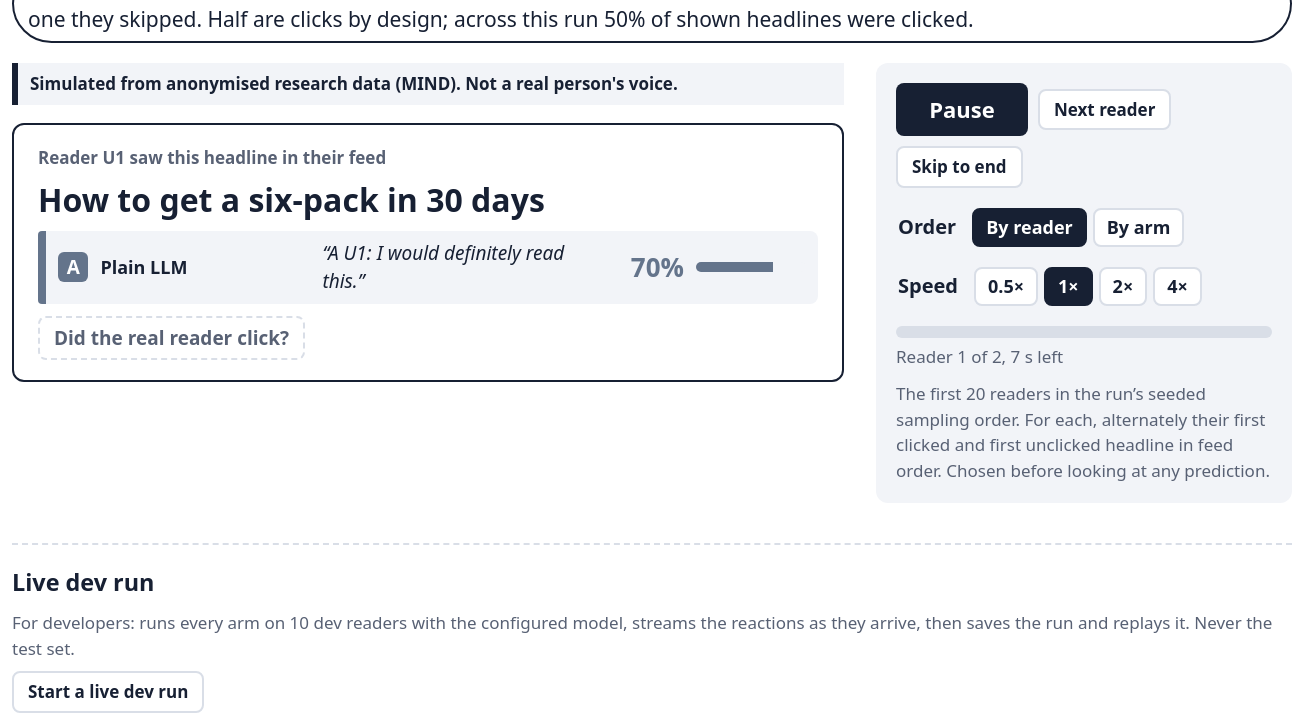
Test case: Live dev run › shows why a live run failed
The width and height of the screenshot is (1292, 713).
(page scrolled)
Click the button "Start a live dev run" at (108, 692), box [12,671,204,712]
(page scrolled)
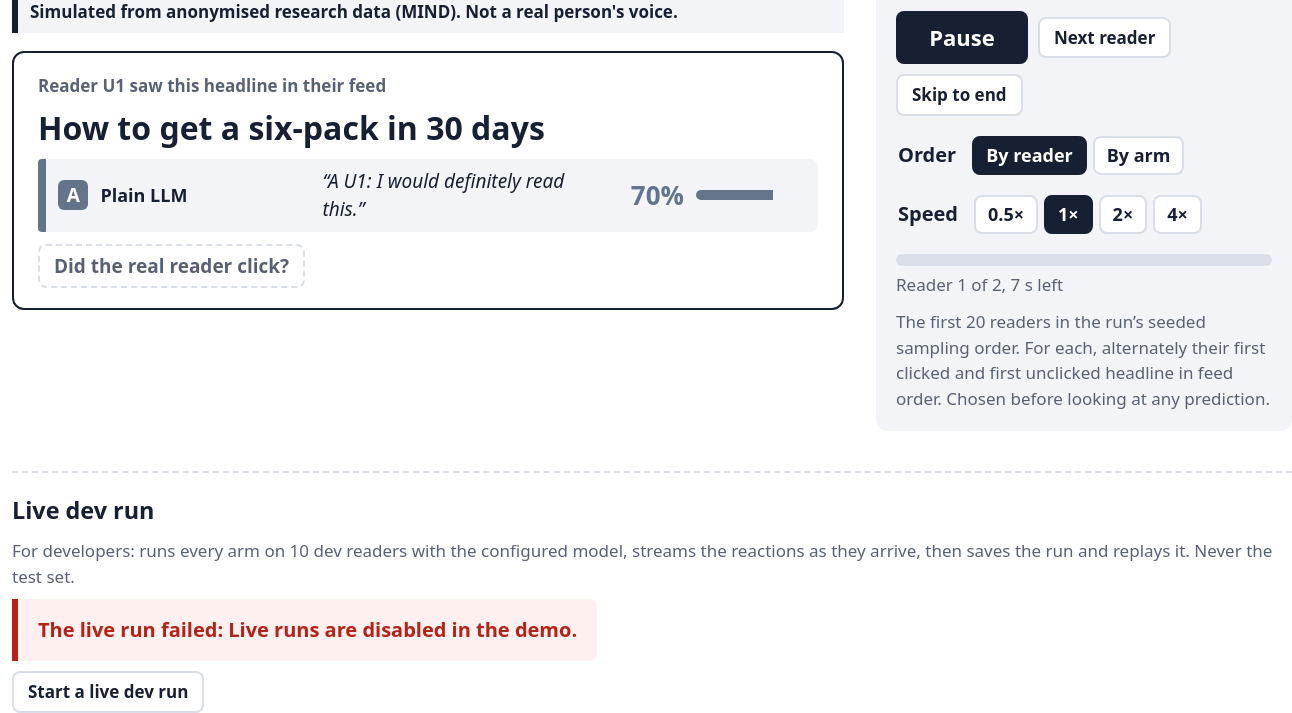
Check: the message shows "Live runs are disabled in the demo.", box [228,616,577,643]
